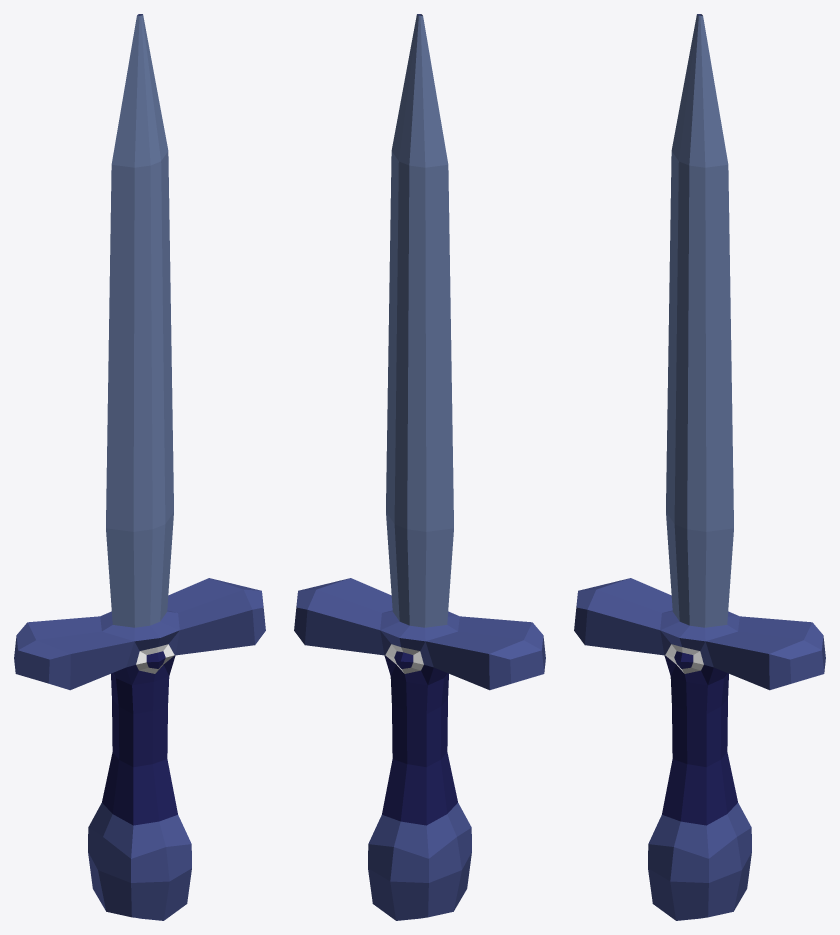
File: svärd.fbx
3 views of the same model, side by side, from view 1: azimuth 30°, elevation 25°; view 2: azimuth 150°, elevation 25°; view 3: azimuth 330°, elevation 25° (orthographic).
Parts seen in each view (by area): view 1: Cube; view 2: Cube; view 3: Cube.
Boxes of the visible parts, box(x1,y1,x2,y2) form: Cube: box(14, 14, 265, 920); Cube: box(294, 14, 545, 920); Cube: box(574, 14, 825, 920).
Bounding box in the file's own units: 54.62 × 190 × 22.61.
